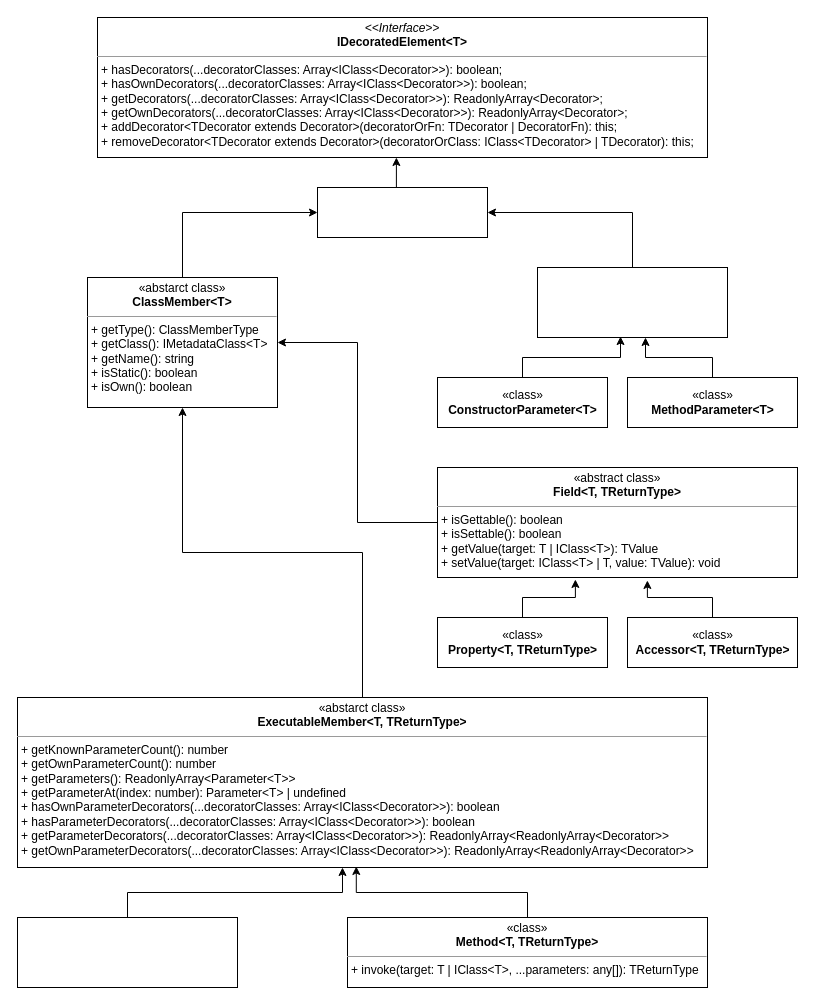
This 815x1005 diagram has some shape labels left out. Each missing label, with the box of its shape:
«abstarct class» DecoratedElement<T>: (316, 186, 488, 238)
«abstarct class» Parameter <T> + getIndex(): number: (536, 266, 728, 338)
«class» Constructor <T> + newInstance(...parameters: any[]): T: (16, 916, 238, 988)
